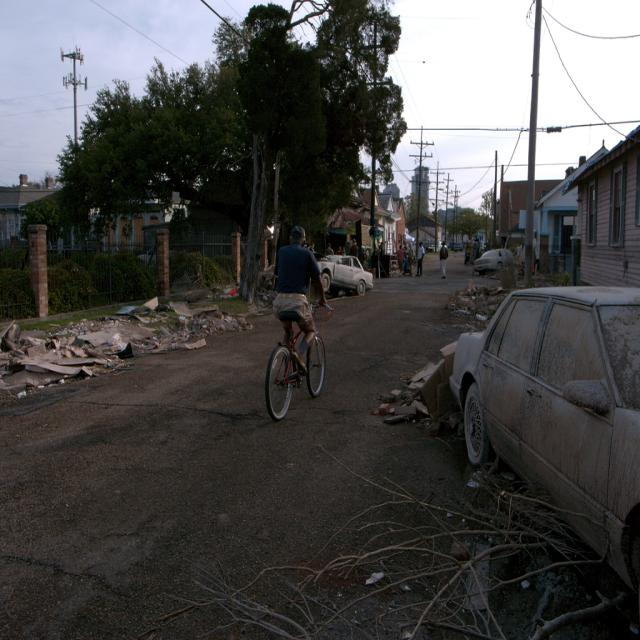car: (437, 291, 637, 541), (468, 248, 514, 279)
